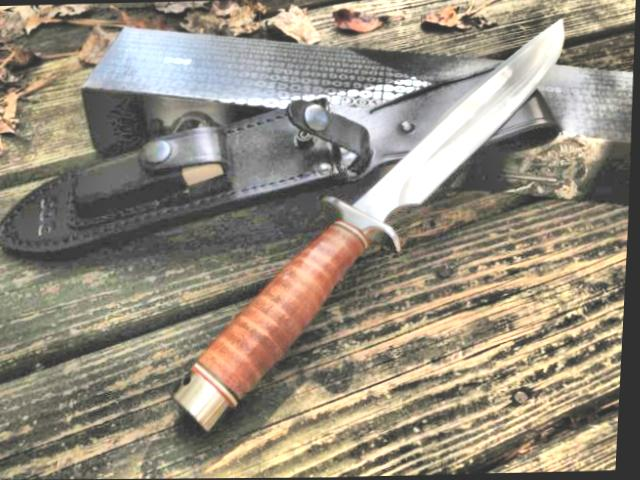knife: (355, 8, 582, 221)
